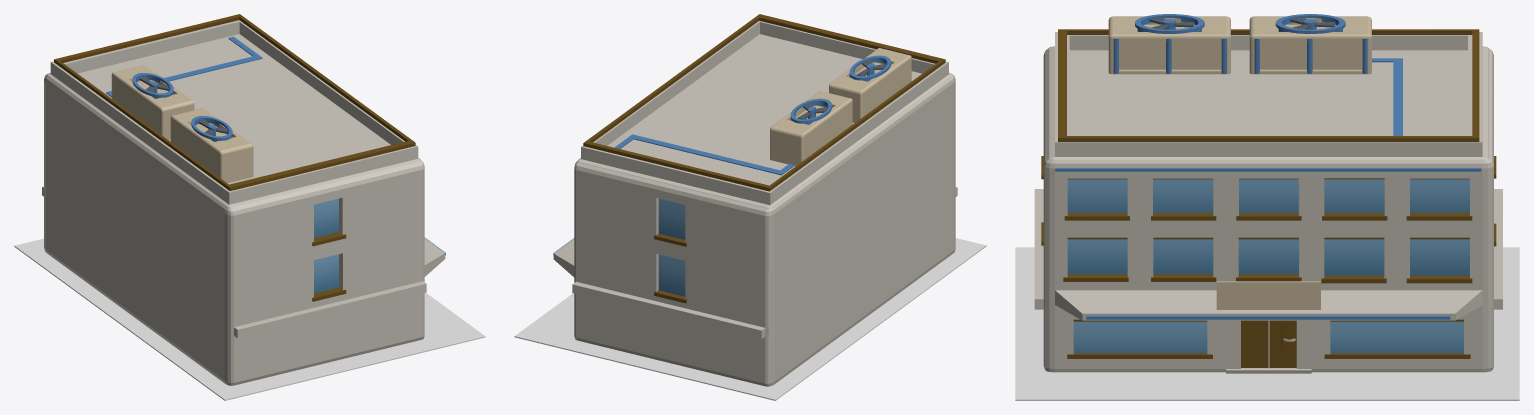
File: restaurant.glb
The picture shows the model from 3 angles, left to right: view 1: azimuth 30°, elevation 25°; view 2: azimuth 150°, elevation 25°; view 3: azimuth 270°, elevation 25°; orthographic projection. The views are drawn at different scales.
Visible parts, largest first — view 1: Node, Cube; view 2: Node, Cube; view 3: Node, Cube.
Boxes of the visible parts, left/top/right/bottom form: Node: left=42, top=14, right=445, bottom=385; Cube: left=14, top=238, right=485, bottom=400; Node: left=553, top=14, right=957, bottom=386; Cube: left=514, top=238, right=986, bottom=400; Node: left=1034, top=14, right=1502, bottom=373; Cube: left=1015, top=247, right=1519, bottom=400.
Size of the model in its own units: 50 by 40 by 70.
2 materials, 1 textured.
